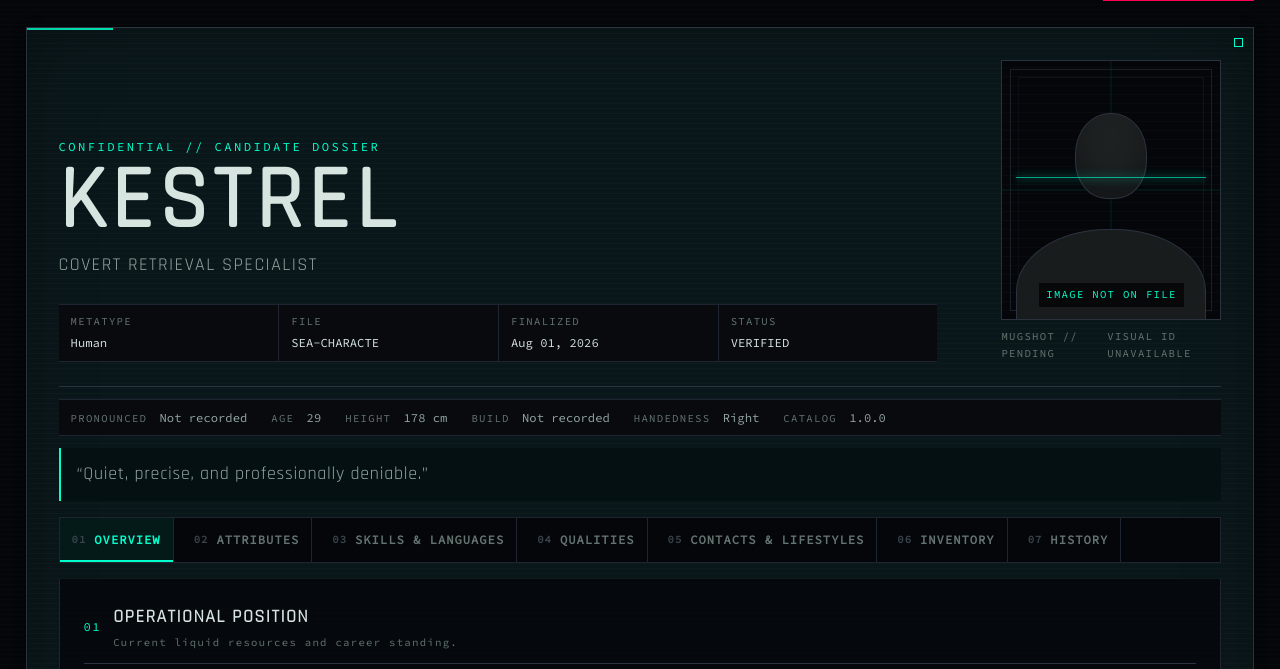
CharacterSheetPage › shows the blocking reason and disables Raise when ineligible
This screenshot has width=1280, height=669.
Click the tab "Attributes" at {"x": 247, "y": 540}, box [182, 518, 312, 562]
(page scrolled)
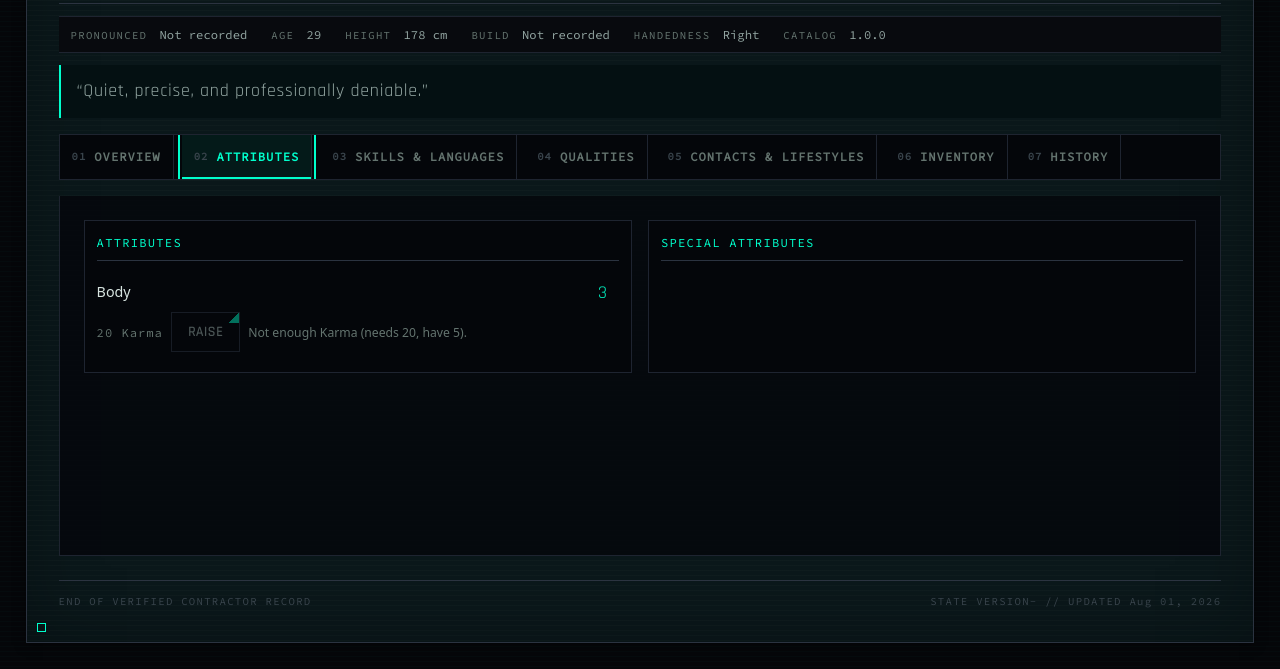
Expected: the button "Raise" is disabled, [171, 312, 240, 352]
Expected: the text "Not enough Karma (needs 20, have 5)." is shown, [248, 323, 467, 342]
